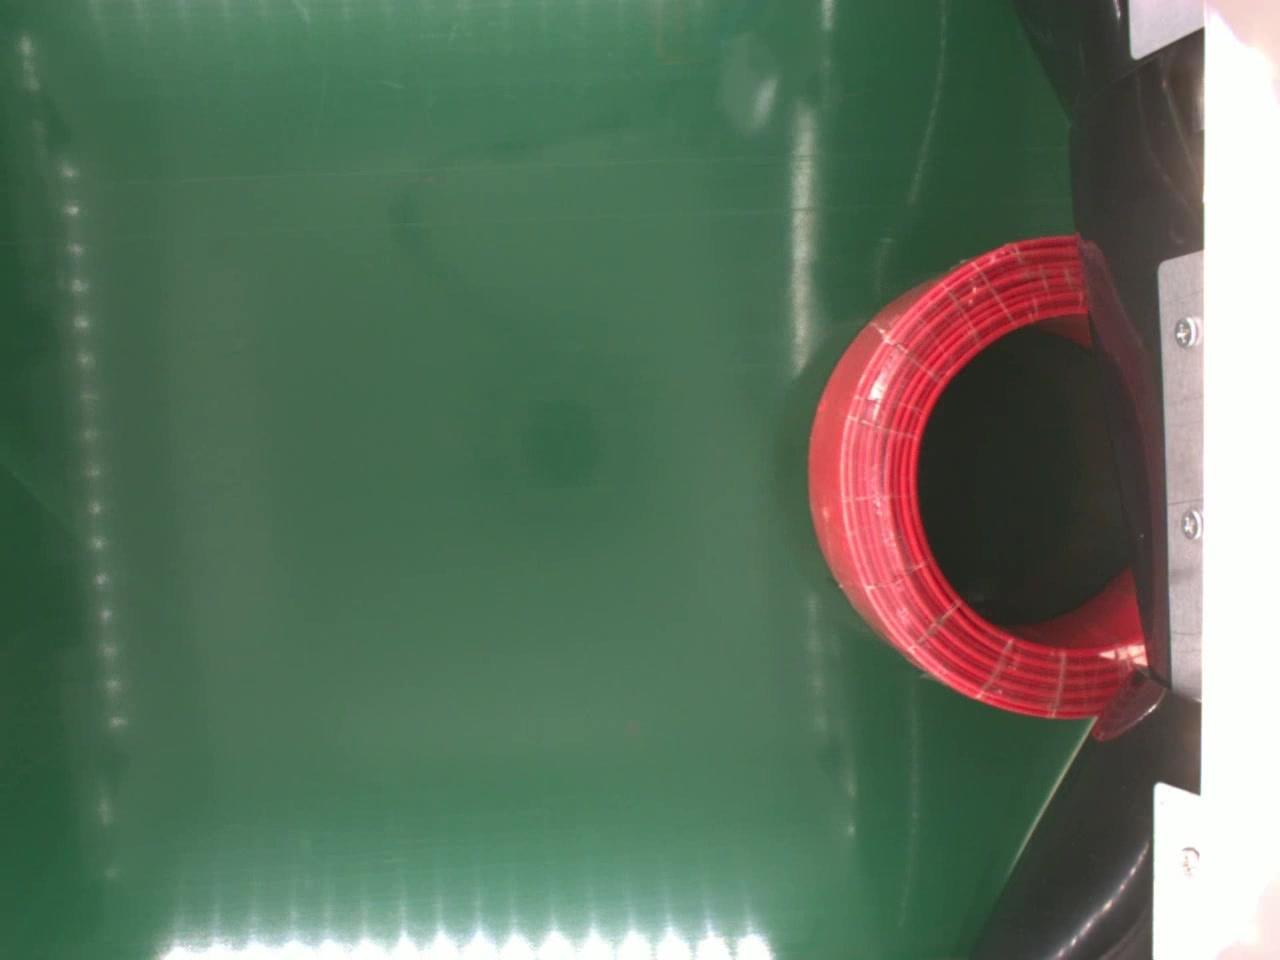red: (802, 223, 1153, 723)
